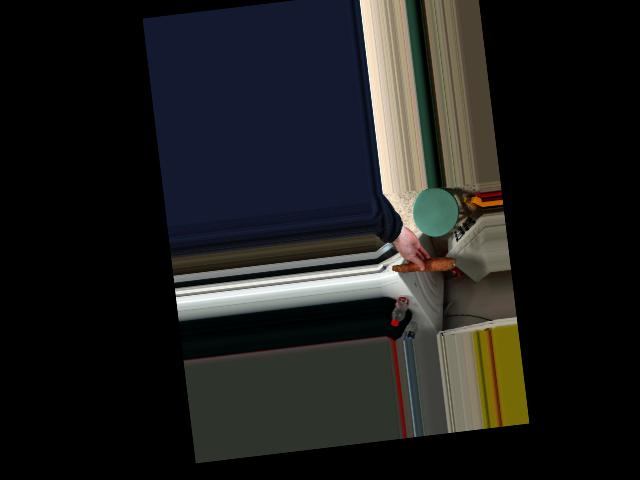sweet_potato: (389, 250, 455, 277)
